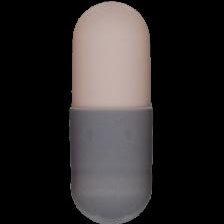16590-085: (0, 0, 224, 224)
